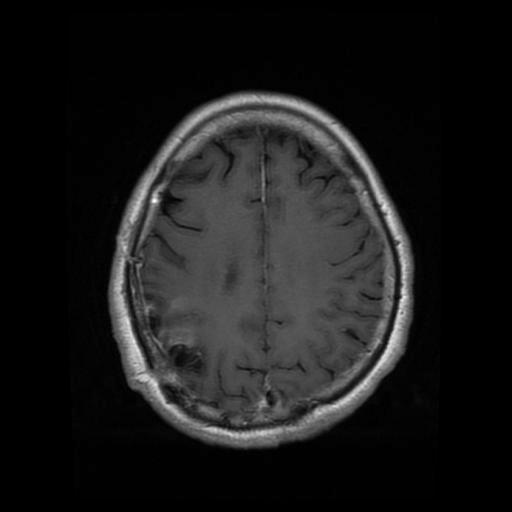Tumour-Glioma: (141, 293, 208, 380)
